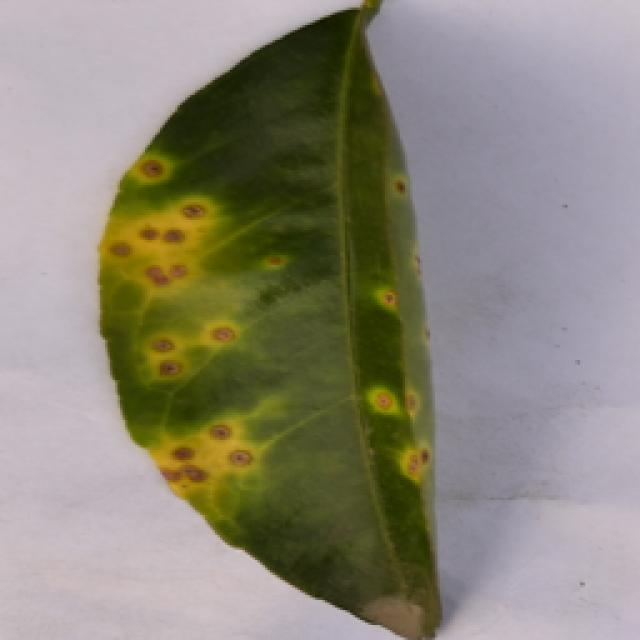canker: (70, 54, 446, 586)
